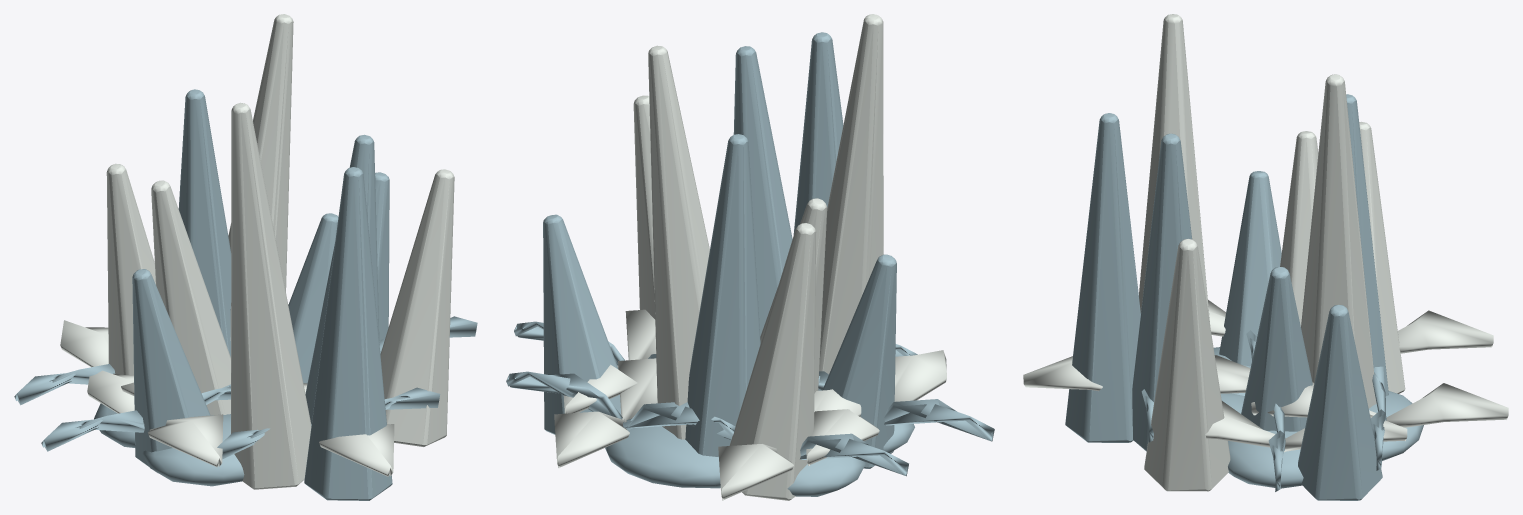
Rendered from bio_crystal_fan_15_far.glb.
3 views of the same model, side by side, from view 1: azimuth 30°, elevation 25°; view 2: azimuth 150°, elevation 25°; view 3: azimuth 270°, elevation 25° (orthographic). The views are drawn at different scales.
Visible parts, largest first — view 1: Reflecting mineral prism.007, Reflecting mineral prism.002, Reflecting mineral prism.005, Reflecting mineral prism.009, Reflecting mineral prism.004, Reflecting mineral prism.006, Reflecting mineral prism.003, Reflecting mineral prism.001, Low buttress leaf.017, Reflecting mineral prism, Mineral substrate, Reflecting mineral prism.010 (+7 smaller); view 2: Reflecting mineral prism.006, Reflecting mineral prism.003, Reflecting mineral prism.007, Reflecting mineral prism.001, Reflecting mineral prism.008, Reflecting mineral prism.010, Reflecting mineral prism.004, Mineral substrate, Reflecting mineral prism.002, Low buttress leaf.013, Low buttress leaf.017, Low buttress leaf.012 (+7 smaller); view 3: Reflecting mineral prism.002, Reflecting mineral prism.005, Reflecting mineral prism.003, Reflecting mineral prism.008, Reflecting mineral prism.010, Reflecting mineral prism, Reflecting mineral prism.004, Reflecting mineral prism.007, Mineral substrate, Reflecting mineral prism.009, Reflecting mineral prism.001, Low buttress leaf.013 (+6 smaller).
Part boxes in pixels (<box>): Reflecting mineral prism.007: <box>231,102,311,489</box>; Reflecting mineral prism.002: <box>304,167,392,500</box>; Reflecting mineral prism.005: <box>380,169,454,446</box>; Reflecting mineral prism.009: <box>151,180,230,414</box>; Reflecting mineral prism.004: <box>132,269,210,472</box>; Reflecting mineral prism.006: <box>178,89,231,357</box>; Reflecting mineral prism.003: <box>228,14,293,340</box>; Reflecting mineral prism.001: <box>106,163,155,374</box>; Low buttress leaf.017: <box>87,366,223,467</box>; Reflecting mineral prism: <box>288,213,338,383</box>; Mineral substrate: <box>94,403,244,486</box>; Reflecting mineral prism.010: <box>305,134,379,423</box>; Reflecting mineral prism.006: <box>685,134,760,457</box>; Reflecting mineral prism.003: <box>648,45,709,439</box>; Reflecting mineral prism.007: <box>819,14,883,374</box>; Reflecting mineral prism.001: <box>729,223,816,500</box>; Reflecting mineral prism.008: <box>543,214,621,434</box>; Reflecting mineral prism.010: <box>733,46,792,335</box>; Reflecting mineral prism.004: <box>822,254,896,468</box>; Mineral substrate: <box>605,424,914,496</box>; Reflecting mineral prism.002: <box>793,32,843,234</box>; Low buttress leaf.013: <box>554,358,657,468</box>; Low buttress leaf.017: <box>806,350,946,465</box>; Low buttress leaf.012: <box>506,371,735,439</box>; Reflecting mineral prism.002: <box>1065,113,1140,442</box>; Reflecting mineral prism.005: <box>1144,239,1230,491</box>; Reflecting mineral prism.003: <box>1301,74,1376,408</box>; Reflecting mineral prism.008: <box>1298,304,1382,500</box>; Reflecting mineral prism.010: <box>1132,133,1192,451</box>; Reflecting mineral prism: <box>1241,267,1312,431</box>; Reflecting mineral prism.004: <box>1219,171,1281,366</box>; Reflecting mineral prism.007: <box>1139,14,1210,325</box>; Mineral substrate: <box>1213,347,1423,488</box>; Reflecting mineral prism.009: <box>1280,131,1318,326</box>; Reflecting mineral prism.001: <box>1359,121,1405,393</box>; Low buttress leaf.013: <box>1251,382,1508,427</box>.
Size of the model in its own units: 2.22 by 1.85 by 2.09.
